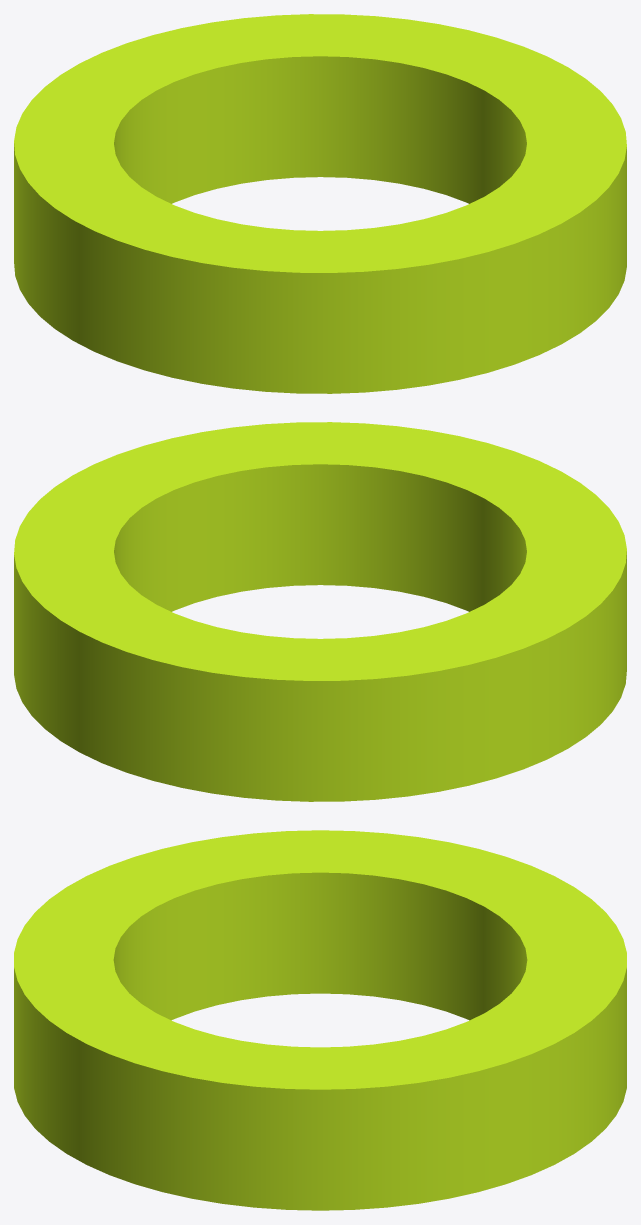
File: MechaFerris-BearingSpacer.gltf
3 views of the same model, one above another, from view 1: azimuth 30°, elevation 25°; view 2: azimuth 150°, elevation 25°; view 3: azimuth 270°, elevation 25° (orthographic).
Parts seen in each view (by area): view 1: Body004; view 2: Body004; view 3: Body004.
Part boxes in pixels (x1,y1,x2,y2): Body004: [14, 14, 626, 393]; Body004: [14, 422, 626, 801]; Body004: [14, 830, 626, 1210].
Size of the model in its own units: 0.0046 by 0.001 by 0.00459.
